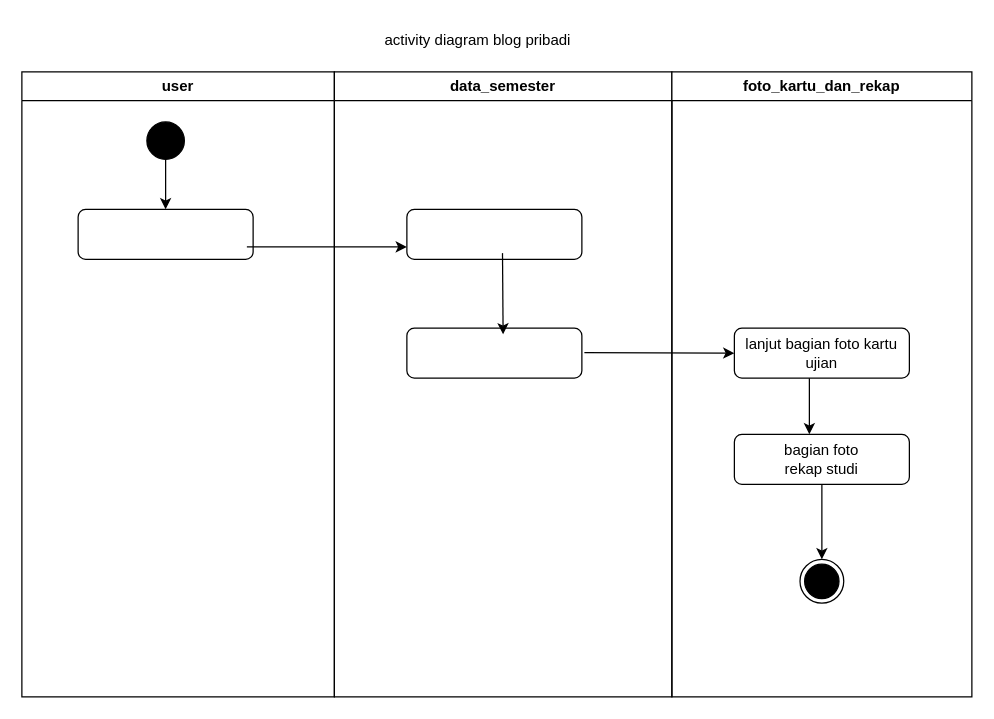
The diagram is 994 pixels wide and 719 high, and some of its shapes have lost their labels. The shapes that lost their labels are listed below. From the top down, each one's centre as x and y in pixels, then its label:
the point at 165,233: login username dan password
the point at 494,233: nama khusus akun dasboard ini
the point at 494,352: masuk ke dasboard foto khs
